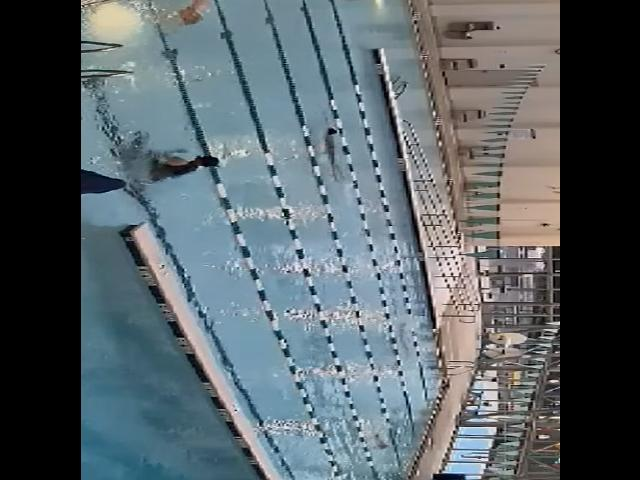drowning: (157, 0, 213, 34)
swimming: (124, 147, 218, 186), (322, 118, 340, 184)
